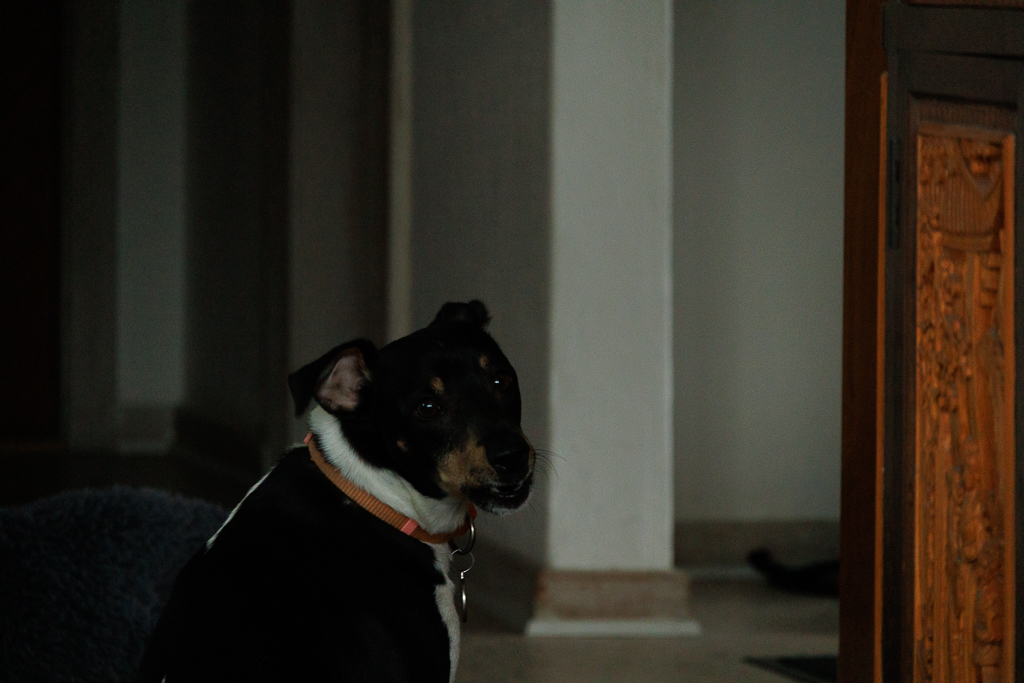Dog: (109, 287, 575, 683)
